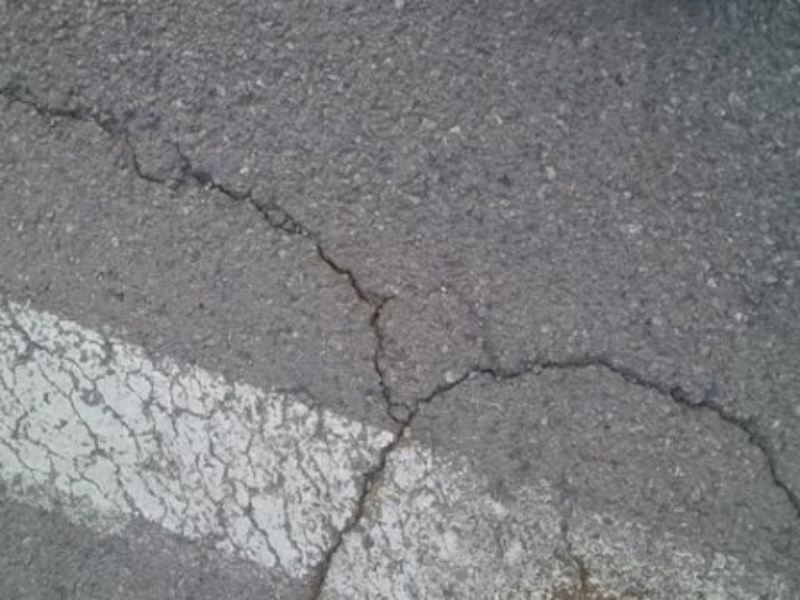crack: (7, 84, 427, 429), (302, 342, 799, 585)
